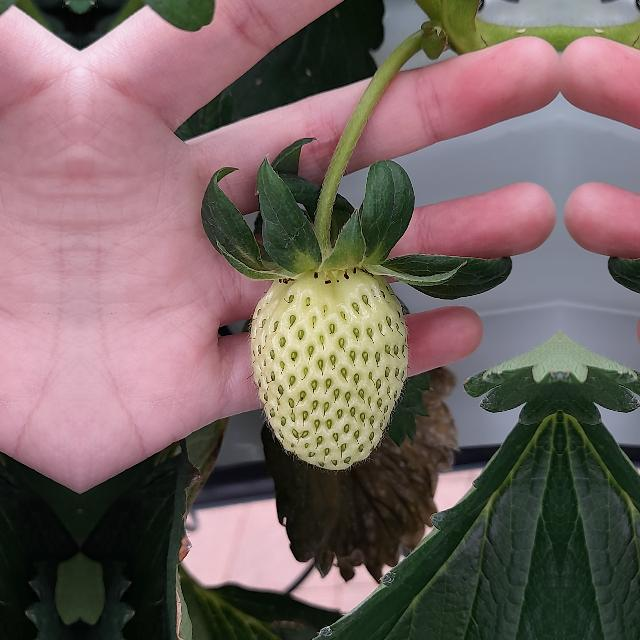Health_25: (250, 266, 408, 469)
